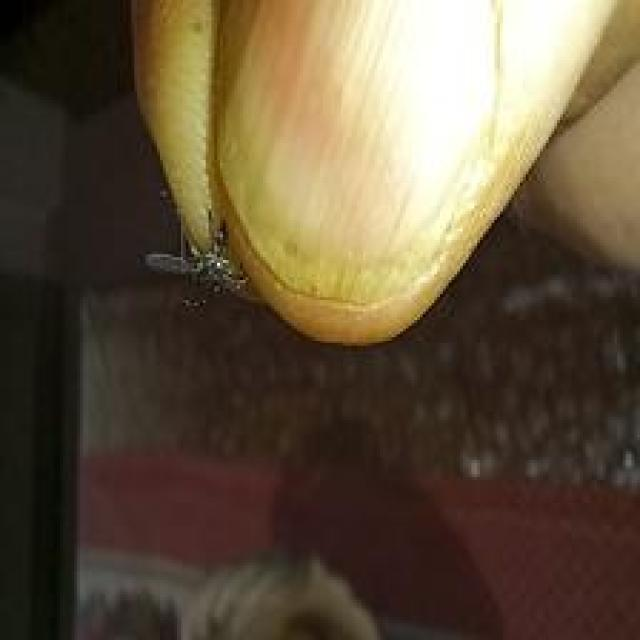Aedes albopictus: (127, 0, 639, 349)
